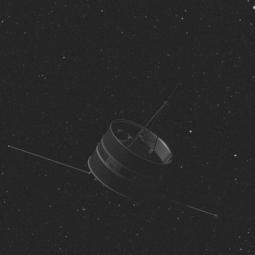double_start: (80, 113, 181, 200)
